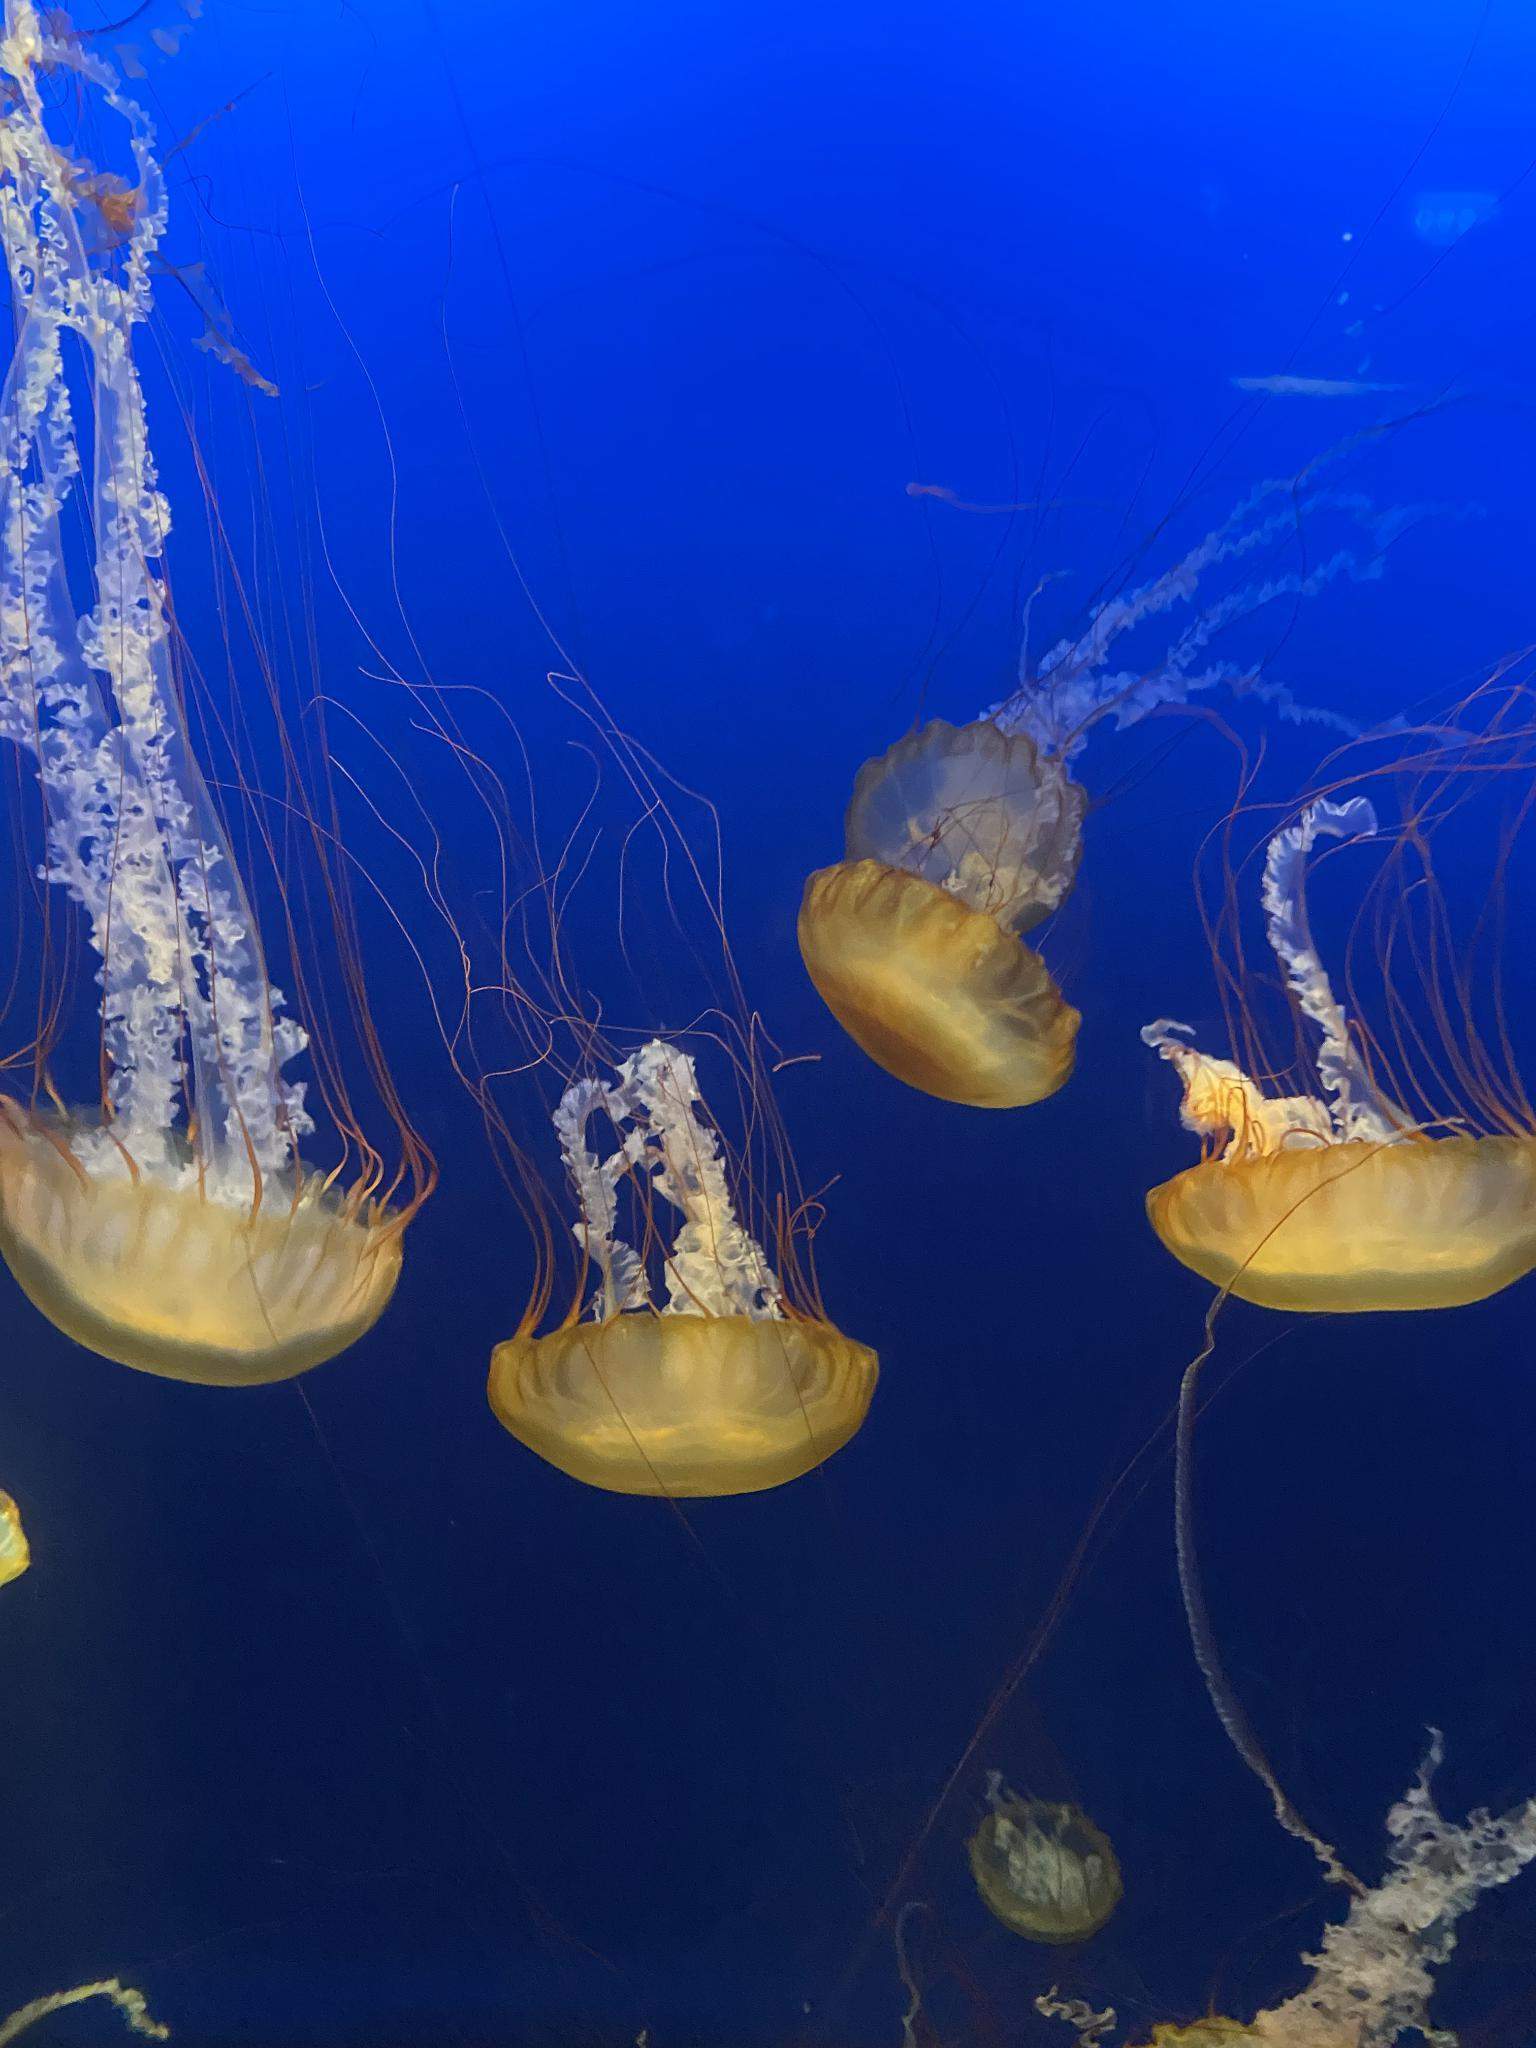jellyfish: (0, 1059, 424, 1387), (449, 1280, 899, 1500), (1125, 1103, 1534, 1330), (802, 853, 1076, 1111), (834, 731, 1112, 924), (968, 1796, 1129, 1934)
